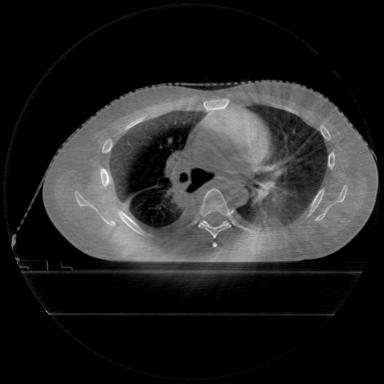body: (45, 81, 377, 261)
cord: (198, 188, 234, 247)
paru kanan: (110, 112, 204, 228)
paru kiri: (237, 105, 327, 226)
